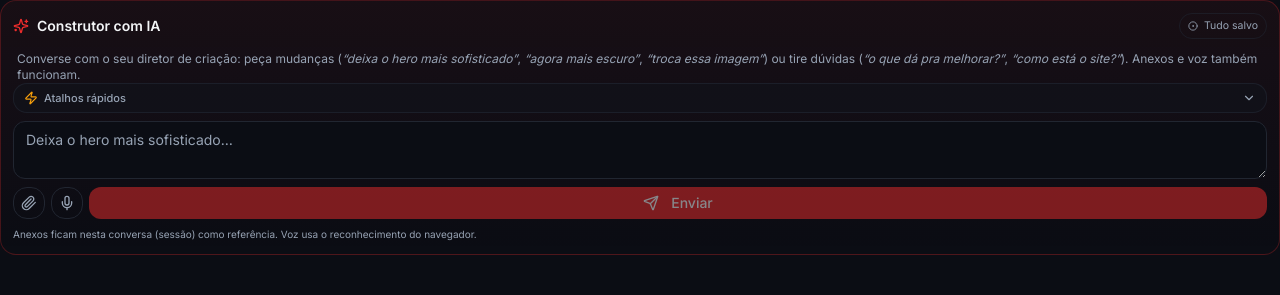
Gravador de voz do chat — só transcreve ao PARAR e UMA vez (silêncio não finaliza) › 11) navegador SEM suporte → mostra aviso (não falha em silêncio)
Click the button titled "Gravar com voz": coordinates (67, 203) [51,187,83,219]
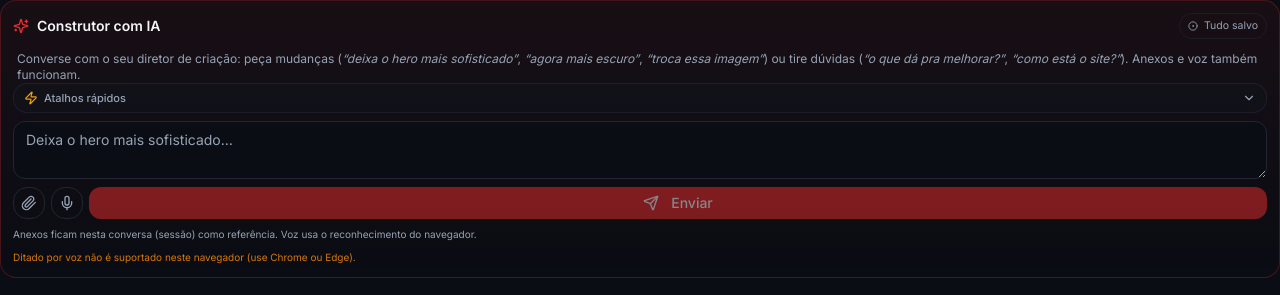
Expected: the text "não é suportado neste navegador" is shown, [13,251,356,263]
